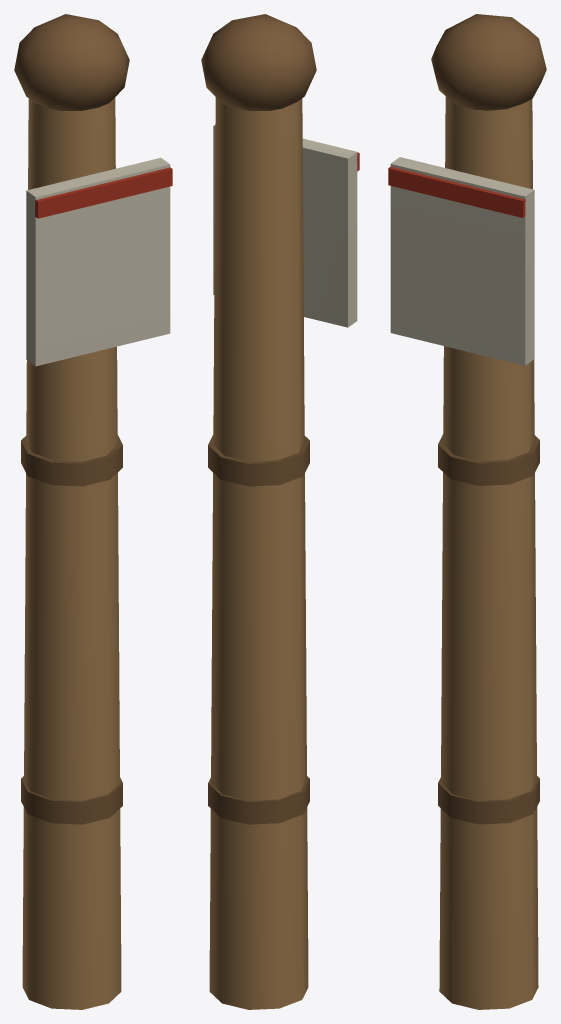
File: wanage_peg.glb
3 renders of one model, left to right at view 1: azimuth 30°, elevation 25°; view 2: azimuth 150°, elevation 25°; view 3: azimuth 330°, elevation 25°, orthographic.
Visible parts, largest first — view 1: peg; view 2: peg; view 3: peg.
Part boxes in pixels (x1,y1,x2,y2): peg: (14,14,172,1009); peg: (201,14,359,1009); peg: (388,14,546,1009).
Bounding box in the file's own units: 0.05 × 0.344 × 0.0405.
